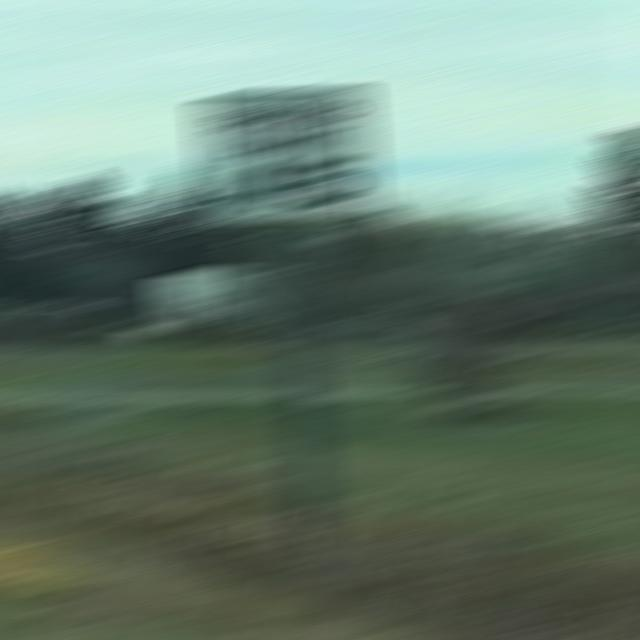speedLimit45: (200, 95, 375, 224)
